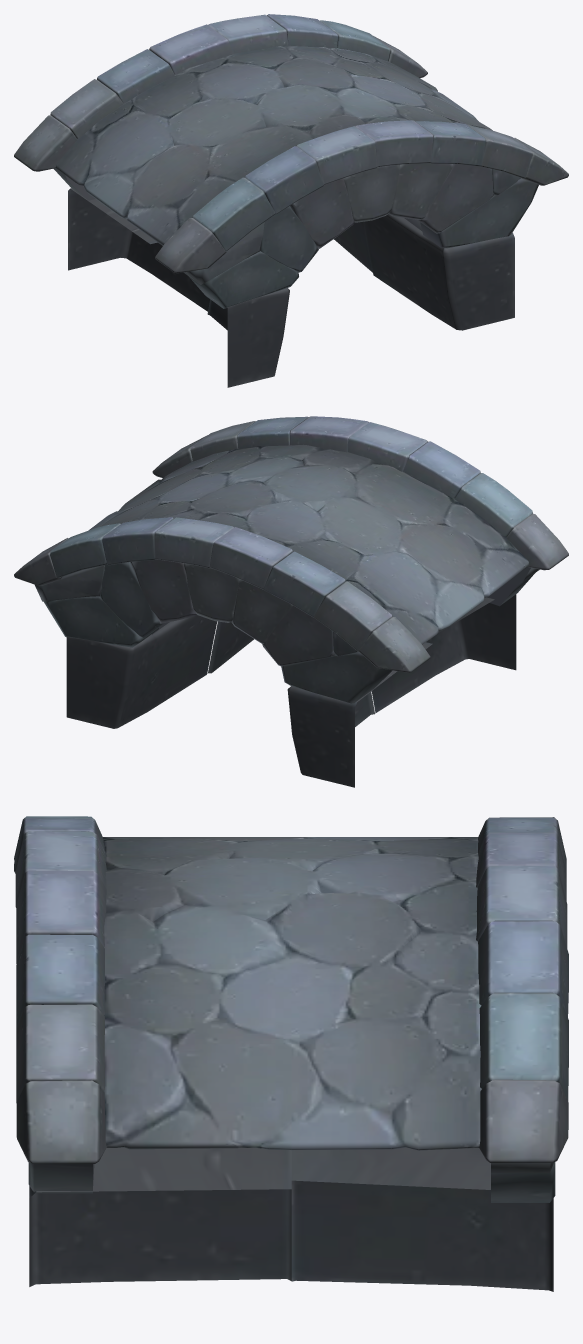
Rendered from bridge-stone.glb.
The picture shows the model from 3 angles, top to bottom: view 1: azimuth 30°, elevation 25°; view 2: azimuth 150°, elevation 25°; view 3: azimuth 270°, elevation 25°; orthographic projection. The views are drawn at different scales.
Bounding box in the file's own units: 40.69 × 20.79 × 30.08.
Materials: 1 (1 with a texture image).
